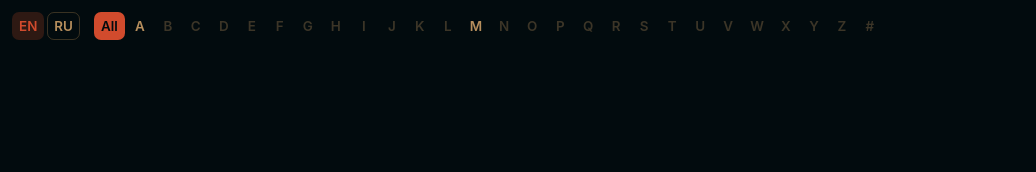
Test: AlphabetBar › with titles in two scripts › swaps the row to the other alphabet, keeping All and #
The image size is (1036, 172).
What coordinates should you click on to do the following:
click the button with aria-label "Русский"
I would click on:
 (64, 26)
Its box is [47, 12, 80, 40].
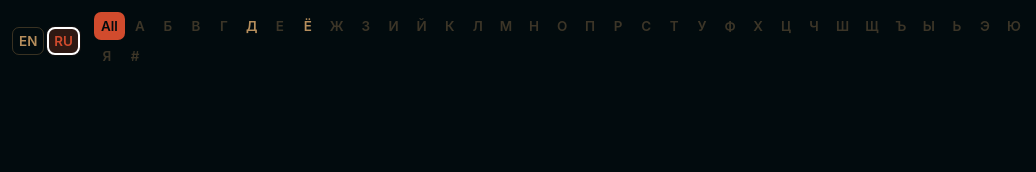
Expected: the button "Б" is disabled, [155, 12, 181, 40]
Expected: the button "Д" is enabled, [239, 12, 265, 40]
Expected: the button "Ё" is enabled, [295, 12, 321, 40]
